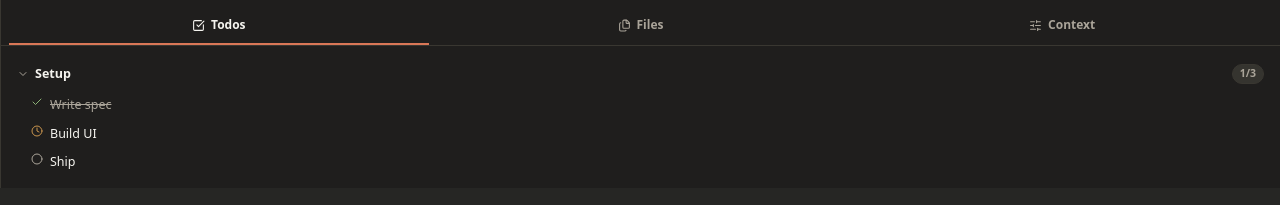
Test: RightPanel › switches to the Files tab and shows its empty state
The width and height of the screenshot is (1280, 205).
Click the tab "Files". click: click(641, 26)
box: x1=431 y1=8 x2=850 y2=45
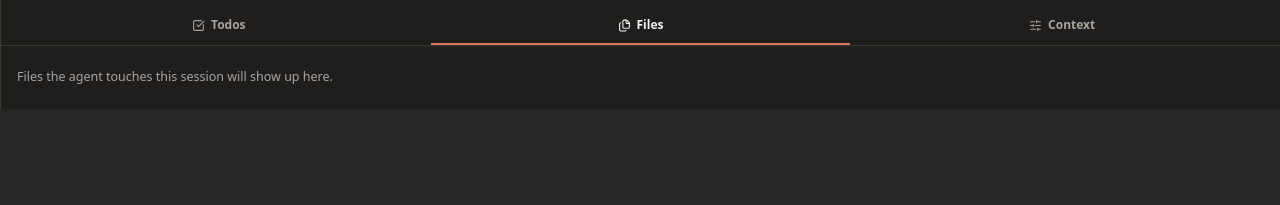
Now the text "Files the agent touches this session will show up here." is shown, box x1=17 y1=68 x2=333 y2=85
